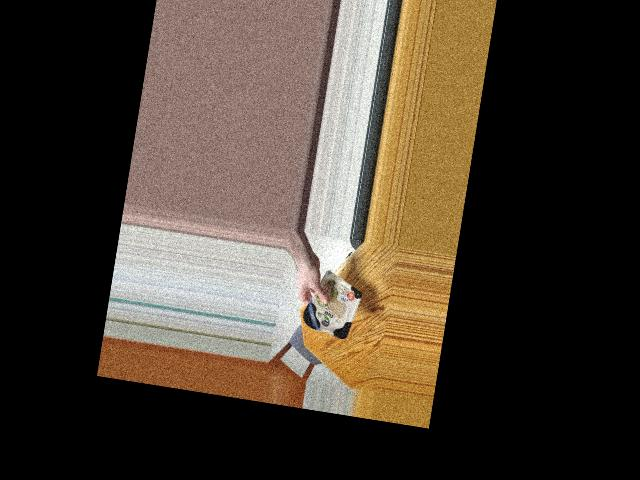cheese: (302, 278, 361, 339)
